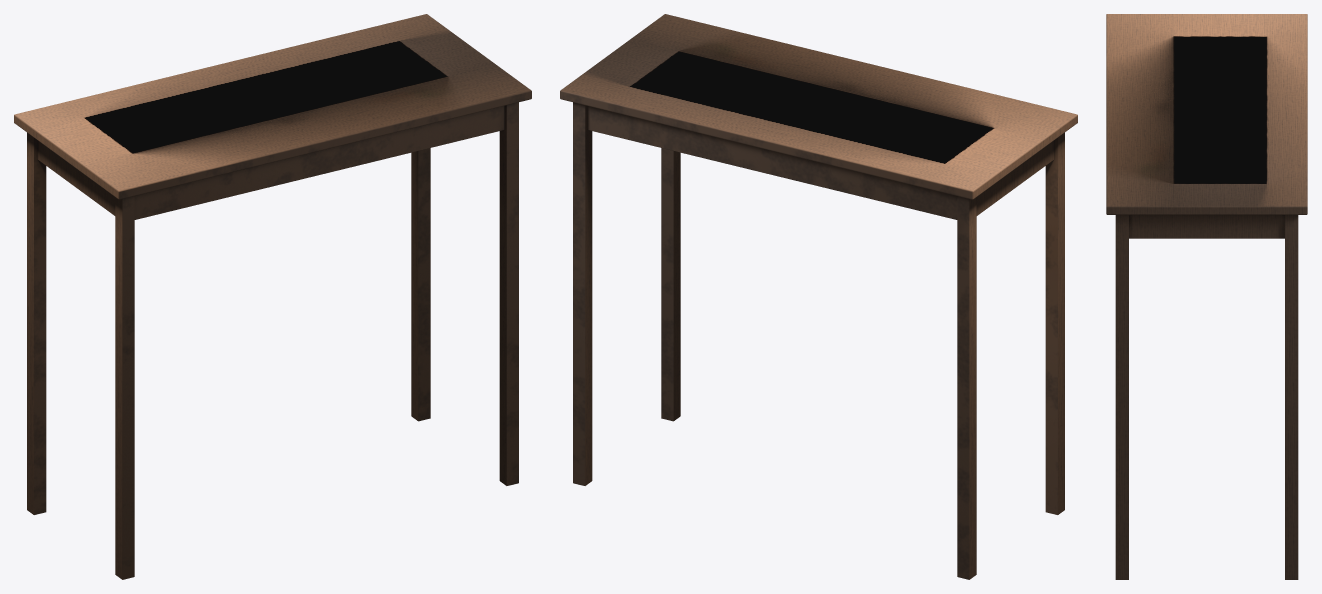
Rendered from 805_ground.glb.
3 renders of one model, left to right at view 1: azimuth 30°, elevation 25°; view 2: azimuth 150°, elevation 25°; view 3: azimuth 270°, elevation 25°, orthographic. The views are drawn at different scales.
Visible parts, largest first — view 1: Table; view 2: Table; view 3: Table.
Part boxes in pixels (<box>): Table: <box>14,14,531,579</box>; Table: <box>560,14,1077,579</box>; Table: <box>1106,14,1307,579</box>.
Size of what is drawn, in the model's own units: 3.4 by 3.1 by 1.5.
1 material, 1 textured.
